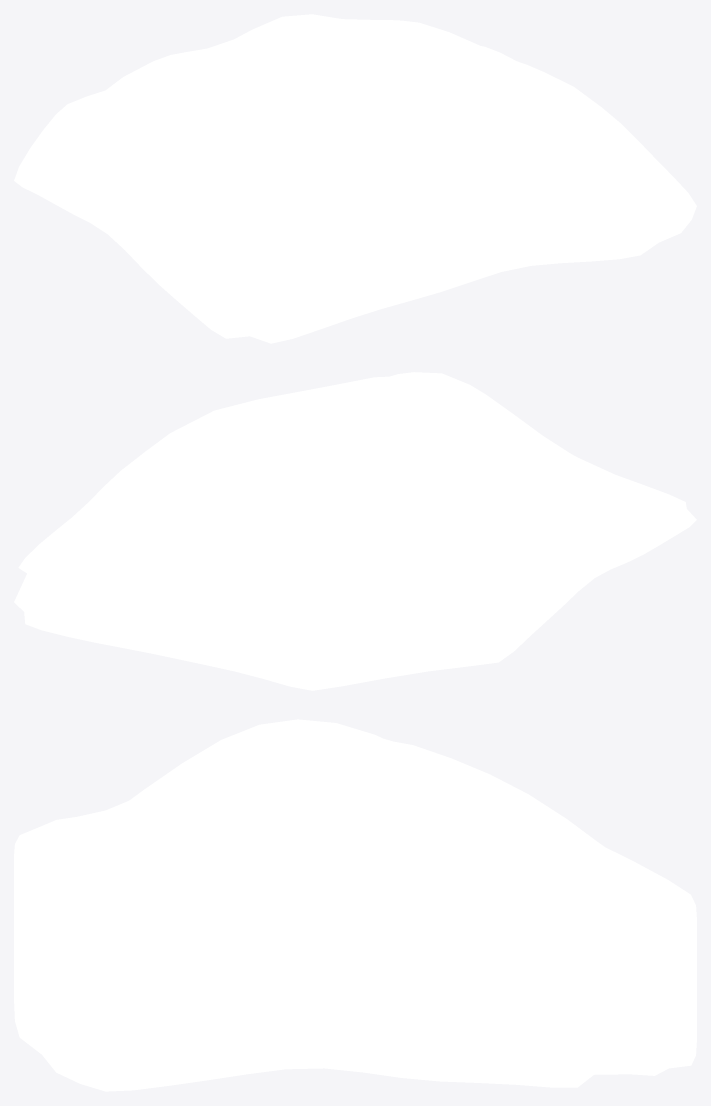
File: snow_hill.gltf
3 renders of one model, top to bottom at view 1: azimuth 30°, elevation 25°; view 2: azimuth 150°, elevation 25°; view 3: azimuth 270°, elevation 25°, orthographic. The views are drawn at different scales.
Parts seen in each view (by area): view 1: Landscape; view 2: Landscape; view 3: Landscape.
Boxes of the visible parts, x1,y1,x2,y2 form: Landscape: (14, 14, 696, 343); Landscape: (14, 372, 696, 690); Landscape: (14, 719, 696, 1091).
Bounding box in the file's own units: 5.03 × 1.75 × 5.33.
1 material, 1 textured.
